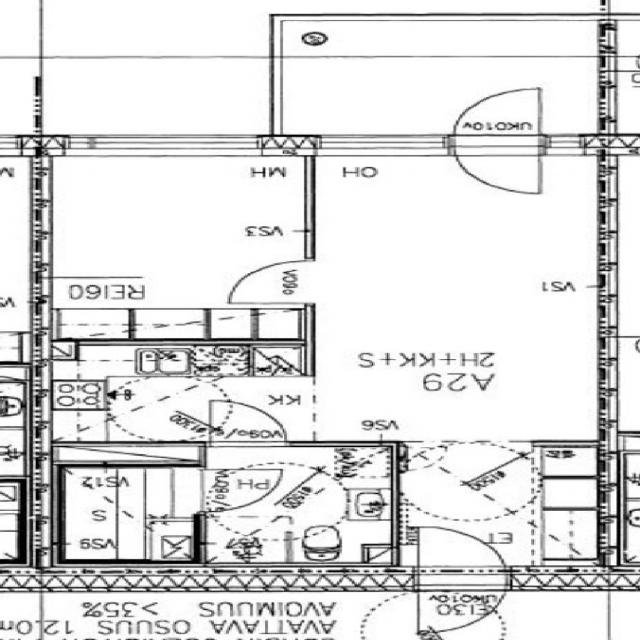door: (418, 516, 506, 591), (418, 565, 506, 640), (456, 134, 537, 200), (456, 90, 537, 156), (228, 261, 314, 303), (210, 399, 286, 446), (199, 469, 282, 511)
